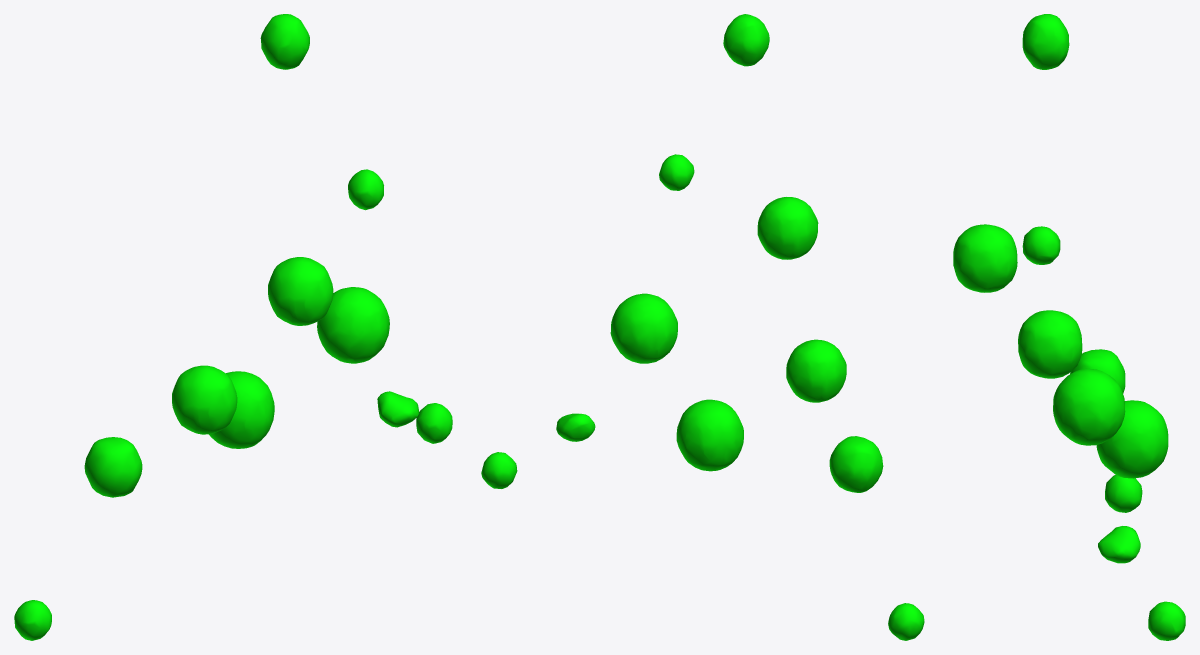
Rendered from node-examples.glb.
3 views of the same model, side by side, from view 1: azimuth 30°, elevation 25°; view 2: azimuth 150°, elevation 25°; view 3: azimuth 270°, elevation 25° (orthographic). The views are drawn at different scales.
Visible parts, largest first — view 1: node_station_4l, node_station_10r, node_station_4r, node_station_7, node_station_11rs, node_station_2r, node_station_11ri, node_station_11l, node_station_2l, node_station_10l; view 2: node_station_7, node_station_4l, node_station_10r, node_station_4r, node_station_11rs, node_station_2r, node_station_11ri, node_station_11l, node_station_2l, node_station_10l; view 3: node_station_4l, node_station_7, node_station_10r, node_station_4r, node_station_2r, node_station_10l, node_station_11l, node_station_2l, node_station_11ri, node_station_11rs.
Boxes of the visible parts, x1,y1,x2,y2 form: node_station_4l: [317, 287, 389, 363]; node_station_10r: [172, 365, 237, 434]; node_station_4r: [268, 257, 333, 325]; node_station_7: [209, 371, 274, 448]; node_station_11rs: [84, 437, 142, 497]; node_station_2r: [260, 14, 309, 69]; node_station_11ri: [14, 600, 51, 640]; node_station_11l: [416, 403, 452, 443]; node_station_2l: [348, 169, 383, 210]; node_station_10l: [377, 391, 419, 427]; node_station_7: [676, 399, 743, 471]; node_station_4l: [610, 293, 677, 363]; node_station_10r: [786, 339, 846, 402]; node_station_4r: [757, 197, 818, 259]; node_station_11rs: [829, 436, 883, 492]; node_station_2r: [723, 14, 769, 66]; node_station_11ri: [888, 603, 924, 640]; node_station_11l: [481, 452, 517, 488]; node_station_2l: [659, 154, 694, 190]; node_station_10l: [556, 413, 595, 441]; node_station_4l: [1053, 368, 1125, 445]; node_station_7: [1096, 400, 1168, 478]; node_station_10r: [1018, 310, 1082, 378]; node_station_4r: [953, 224, 1017, 292]; node_station_2r: [1022, 14, 1069, 69]; node_station_10l: [1098, 526, 1140, 563]; node_station_11l: [1148, 601, 1185, 640]; node_station_2l: [1022, 226, 1060, 264]; node_station_11ri: [1105, 474, 1142, 512]; node_station_11rs: [1070, 349, 1125, 393].
Bounding box in the file's own units: 0.0979 × 0.1233 × 0.0433.
